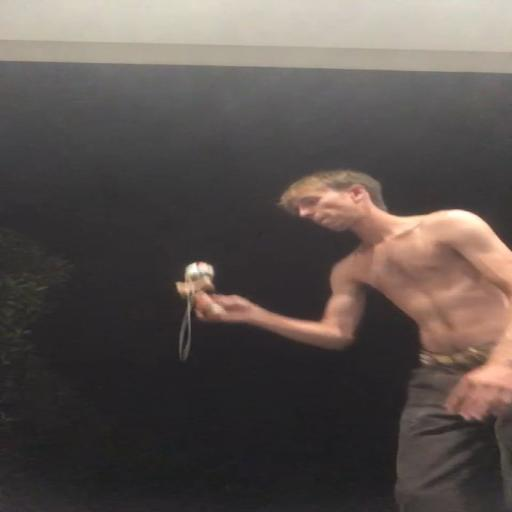kendama_ball: (184, 262, 214, 282)
